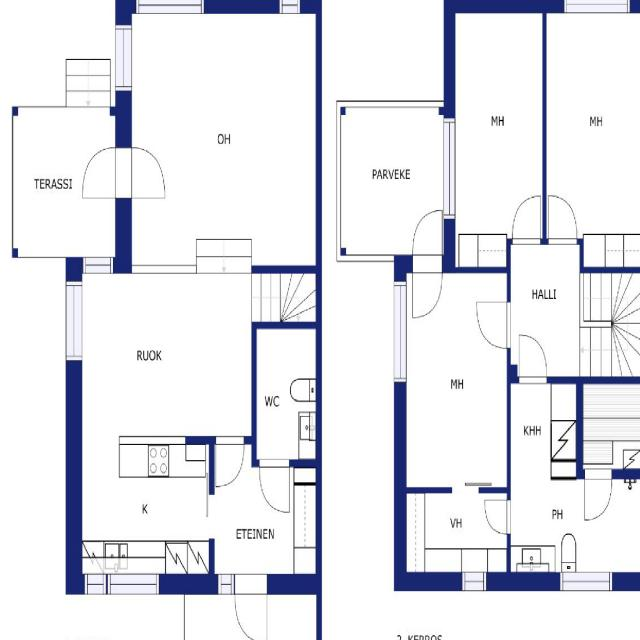door: (82, 148, 132, 197), (115, 148, 164, 197), (234, 574, 267, 640), (412, 254, 442, 317), (412, 210, 442, 272), (259, 459, 289, 513), (477, 302, 511, 347), (548, 194, 577, 244), (512, 196, 540, 245), (216, 436, 243, 486), (519, 336, 546, 384), (586, 469, 611, 518), (485, 501, 511, 534)
